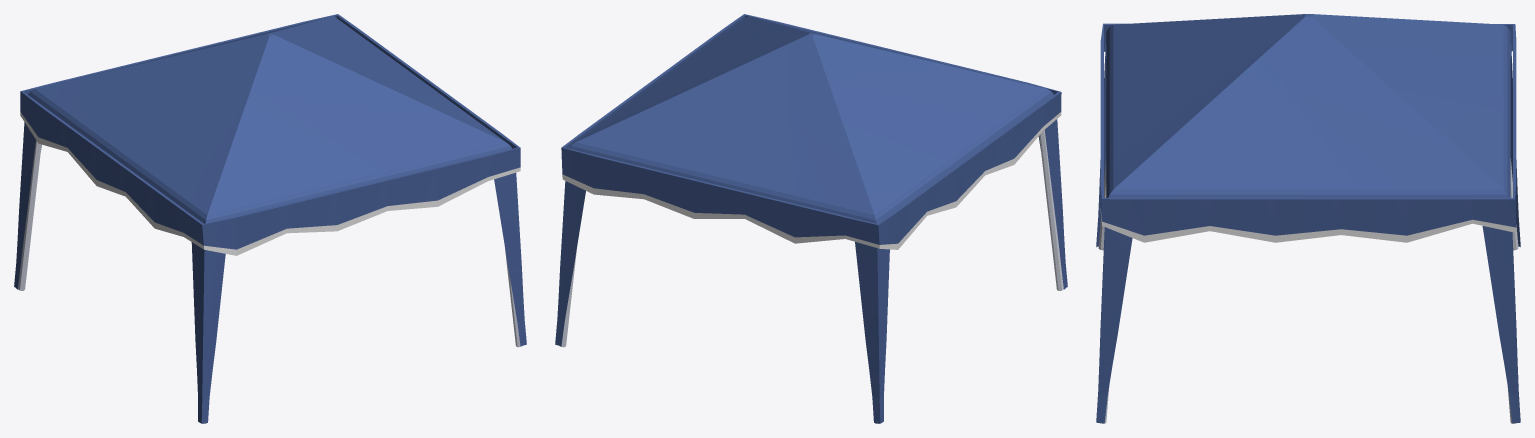
File: tent.glb
The picture shows the model from 3 angles, left to right: view 1: azimuth 30°, elevation 25°; view 2: azimuth 150°, elevation 25°; view 3: azimuth 270°, elevation 25°; orthographic projection. The views are drawn at different scales.
Visible parts, largest first — view 1: Cube.001; view 2: Cube.001; view 3: Cube.001.
Part boxes in pixels (x1=…): Cube.001: x1=14, y1=14, x2=526, y2=423; Cube.001: x1=555, y1=14, x2=1067, y2=423; Cube.001: x1=1096, y1=14, x2=1520, y2=423.
Bounding box in the file's own units: 2.1 × 1.75 × 2.1.
1 material, 1 textured.
